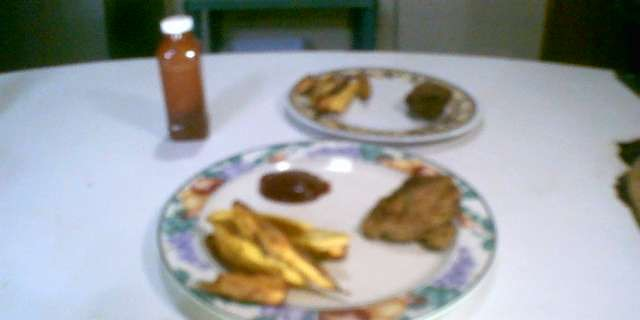chicken: (354, 169, 467, 254), (400, 71, 454, 121)
ketchup_bottle: (147, 5, 217, 146)
ketchup_portion: (255, 164, 333, 211)
potatoe_fries: (199, 186, 352, 310), (308, 62, 368, 118)
